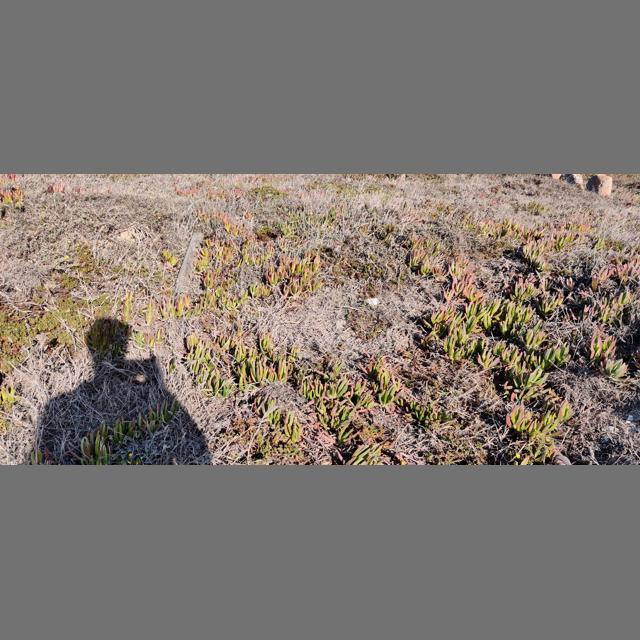litter: (550, 443, 572, 466), (353, 298, 382, 308)
